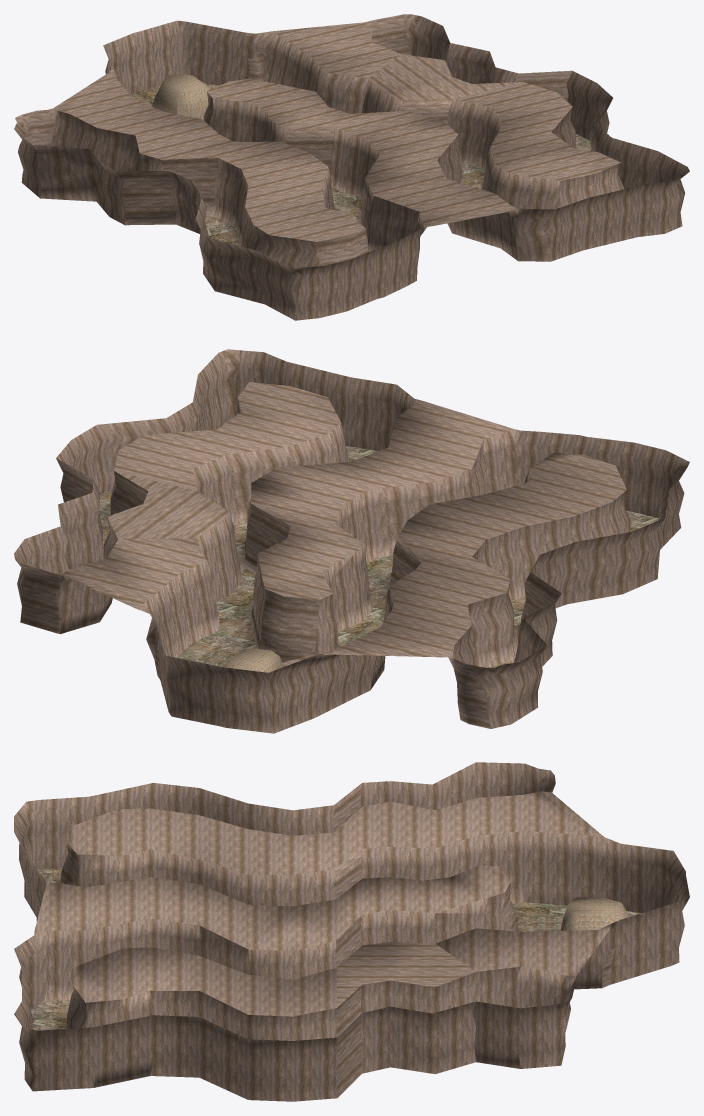
The model's file is map7.fbx.
3 views of the same model, one above another, from view 1: azimuth 30°, elevation 25°; view 2: azimuth 150°, elevation 25°; view 3: azimuth 270°, elevation 25° (orthographic). The views are drawn at different scales.
Parts seen in each view (by area): view 1: polySurface8, polySurface1, polySurface7; view 2: polySurface8, polySurface1, polySurface7; view 3: polySurface8, polySurface1, polySurface7, polySurface5.
Boxes of the visible parts, x1,y1,x2,y2 form: polySurface8: [14, 14, 689, 320]; polySurface1: [131, 82, 591, 246]; polySurface7: [152, 74, 210, 120]; polySurface8: [14, 349, 689, 733]; polySurface1: [98, 417, 658, 667]; polySurface7: [222, 648, 283, 672]; polySurface8: [14, 762, 689, 1101]; polySurface1: [30, 868, 641, 1030]; polySurface7: [560, 897, 629, 930]; polySurface5: [525, 912, 563, 931].
Bounding box in the file's own units: 4.05 × 0.45 × 4.15.
Materials: 3 (3 with a texture image).
